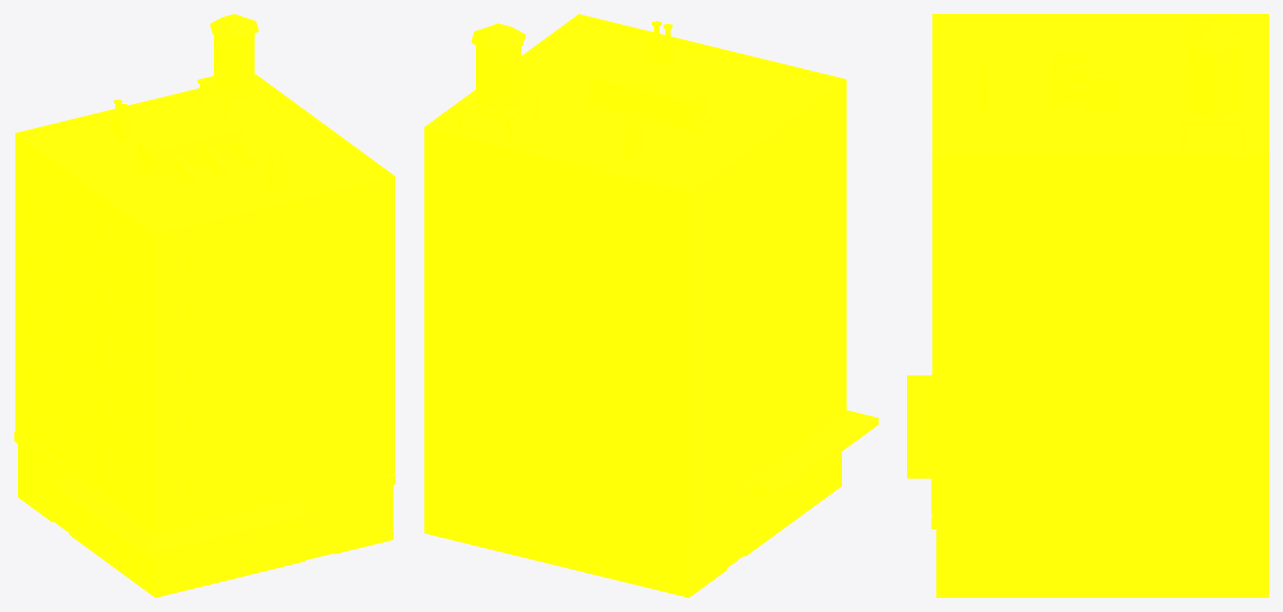
Rendered from building-block-5floor-corner.glb.
3 views of the same model, side by side, from view 1: azimuth 30°, elevation 25°; view 2: azimuth 150°, elevation 25°; view 3: azimuth 270°, elevation 25° (orthographic). The views are drawn at different scales.
Parts seen in each view (by area): view 1: building-block-5floor-corner; view 2: building-block-5floor-corner; view 3: building-block-5floor-corner.
Boxes of the visible parts, x1,y1,x2,y2 form: building-block-5floor-corner: (14,14,395,597); building-block-5floor-corner: (424,14,878,597); building-block-5floor-corner: (907,14,1268,597).
Bounding box in the file's own units: 14.25 × 23.81 × 14.25.
Materials: 1 (1 with a texture image).
